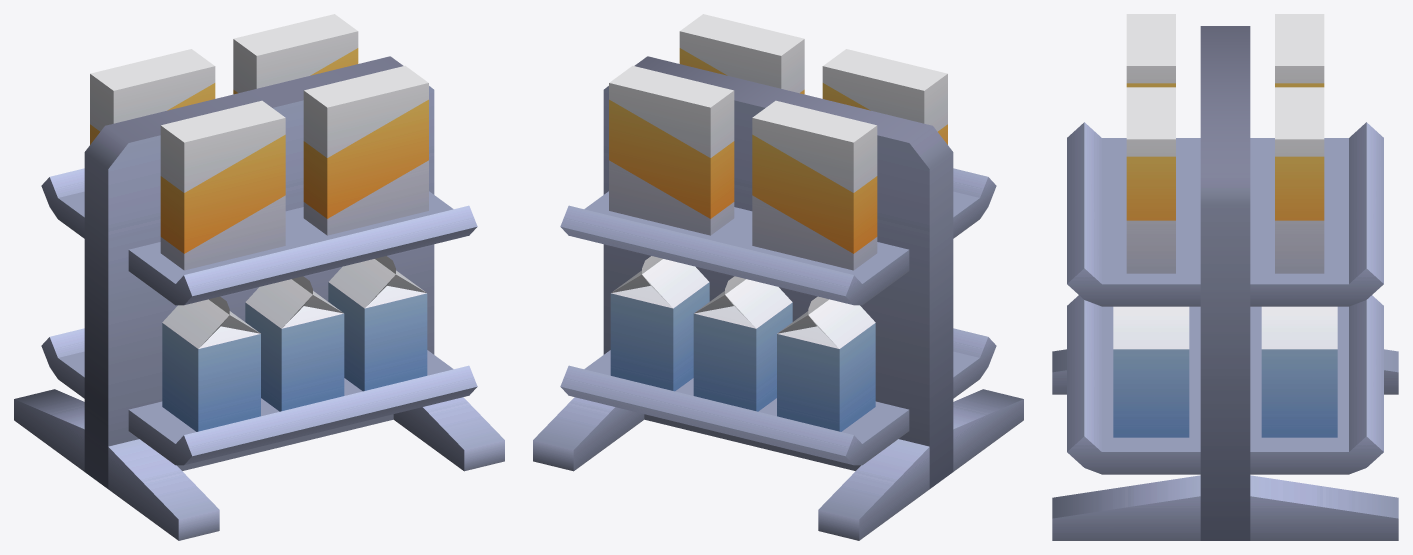
File: store_shelf.glb
3 views of the same model, side by side, from view 1: azimuth 30°, elevation 25°; view 2: azimuth 150°, elevation 25°; view 3: azimuth 270°, elevation 25° (orthographic). The views are drawn at different scales.
Visible parts, largest first — view 1: shelf-boxes; view 2: shelf-boxes; view 3: shelf-boxes.
Part boxes in pixels (<box>): shelf-boxes: <box>14,14,504,540</box>; shelf-boxes: <box>533,14,1023,540</box>; shelf-boxes: <box>1052,14,1398,540</box>.
Size of the model in its own units: 0.8 by 0.85 by 0.7001.
1 material, 1 textured.
